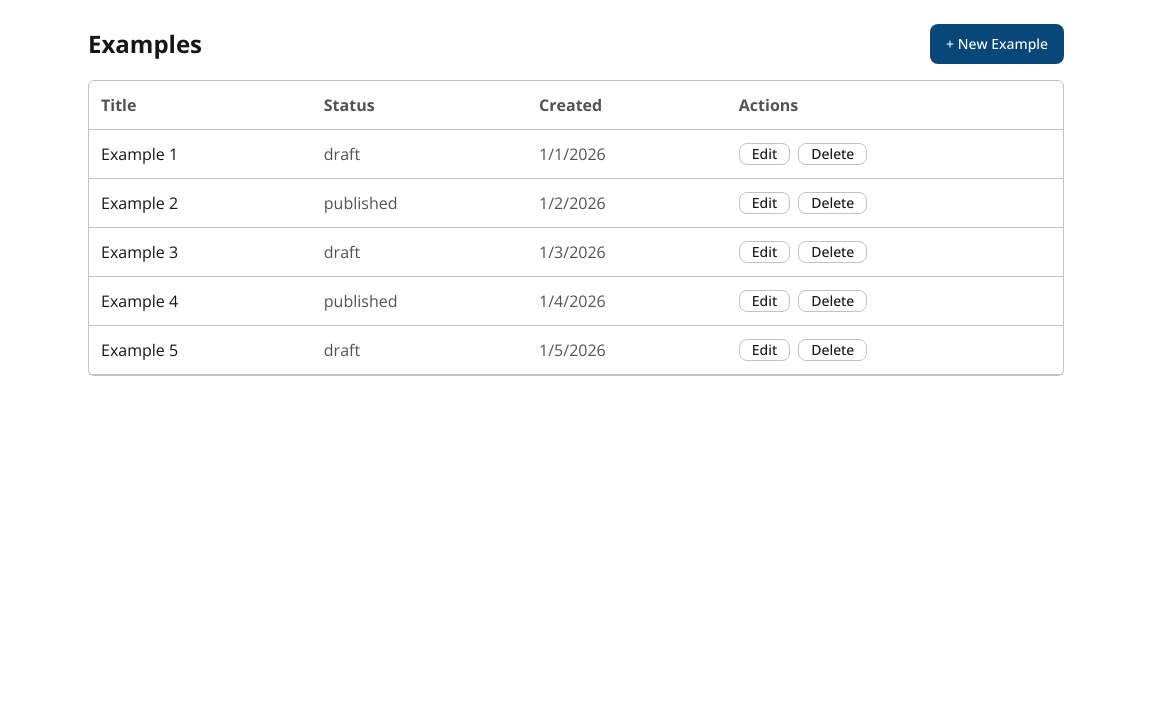
Test: ExamplesPage › Edit 클릭 시 title/status가 prefill되고 description은 빈 문자열로 시작한다
Check: the text "Example 2" is shown, box [89,178,312,228]
Step 1. Click the button "Edit" in the row of "Example 2" → (764,203), box [739,192,790,214]
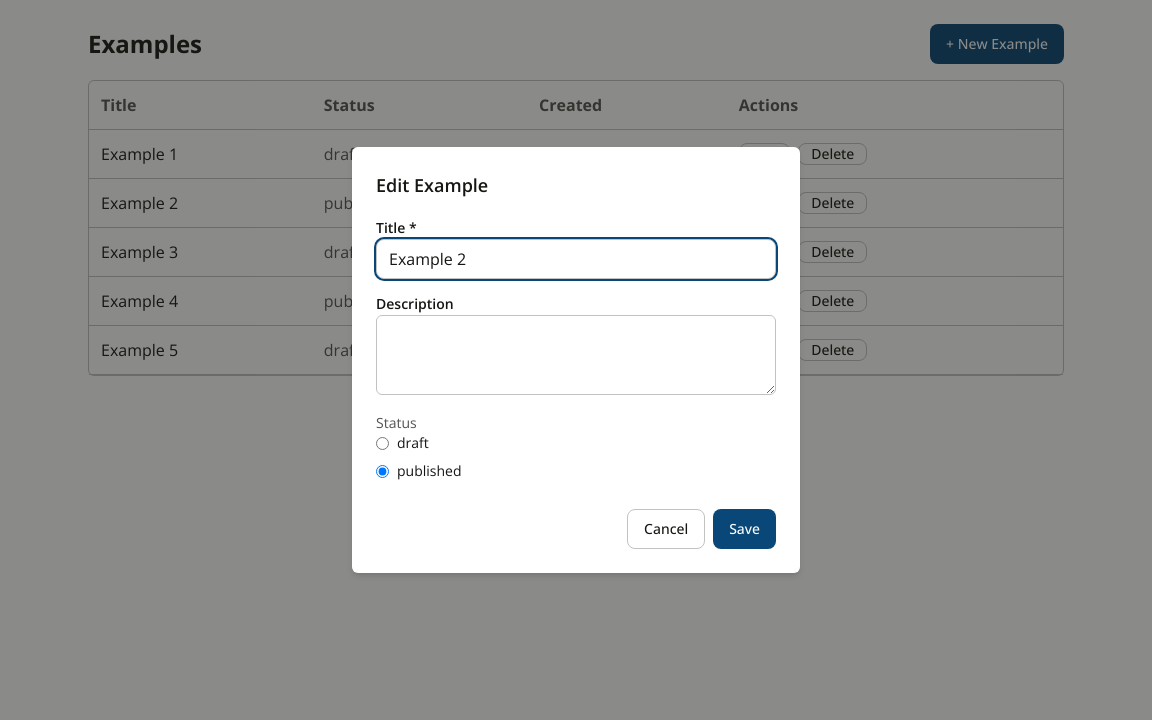
Check: the heading "Edit Example" is shown, box [376,173,488,197]
Check: the field labelled "Title *" holds "Example 2", box [376,239,776,279]
Check: the text box labelled "Description" is empty, box [376,315,776,395]
